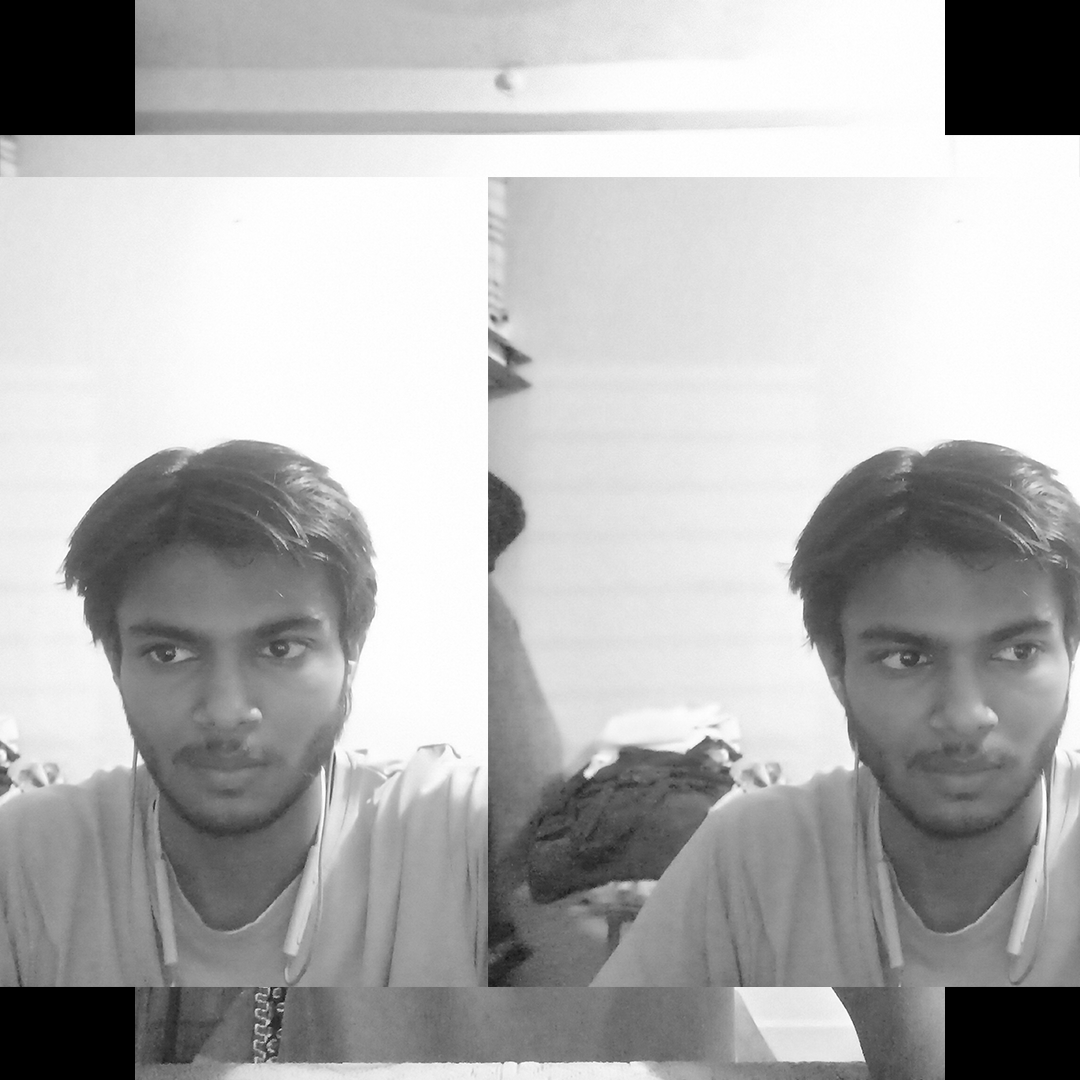Focused: (36, 337, 457, 896), (694, 350, 1080, 945)
